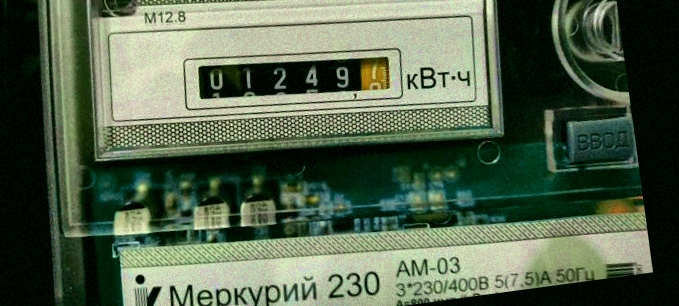0: (206, 63, 226, 92)
1: (238, 63, 255, 90)
2: (268, 64, 289, 92)
4: (301, 61, 320, 88)
7: (365, 53, 383, 81)
9: (331, 62, 351, 90)
screen: (177, 28, 409, 130)
